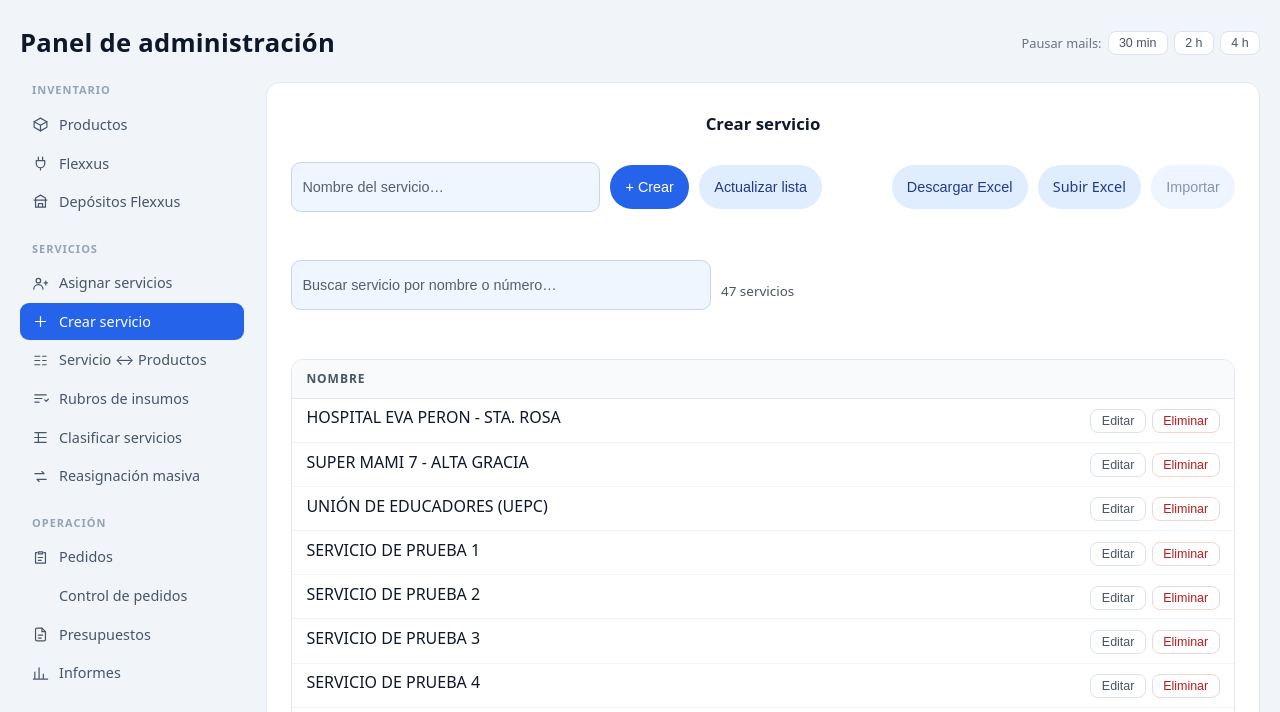
Crear servicio — buscar y paginar › busca por nombre sin importar acentos ni mayúsculas
The image size is (1280, 712).
expect the heading "Crear servicio" is shown: met, box [706,111,820,137]
Type "union" into the search field labelled "Buscar servicio" at coordinates (501, 285), box [291,260,711,310]
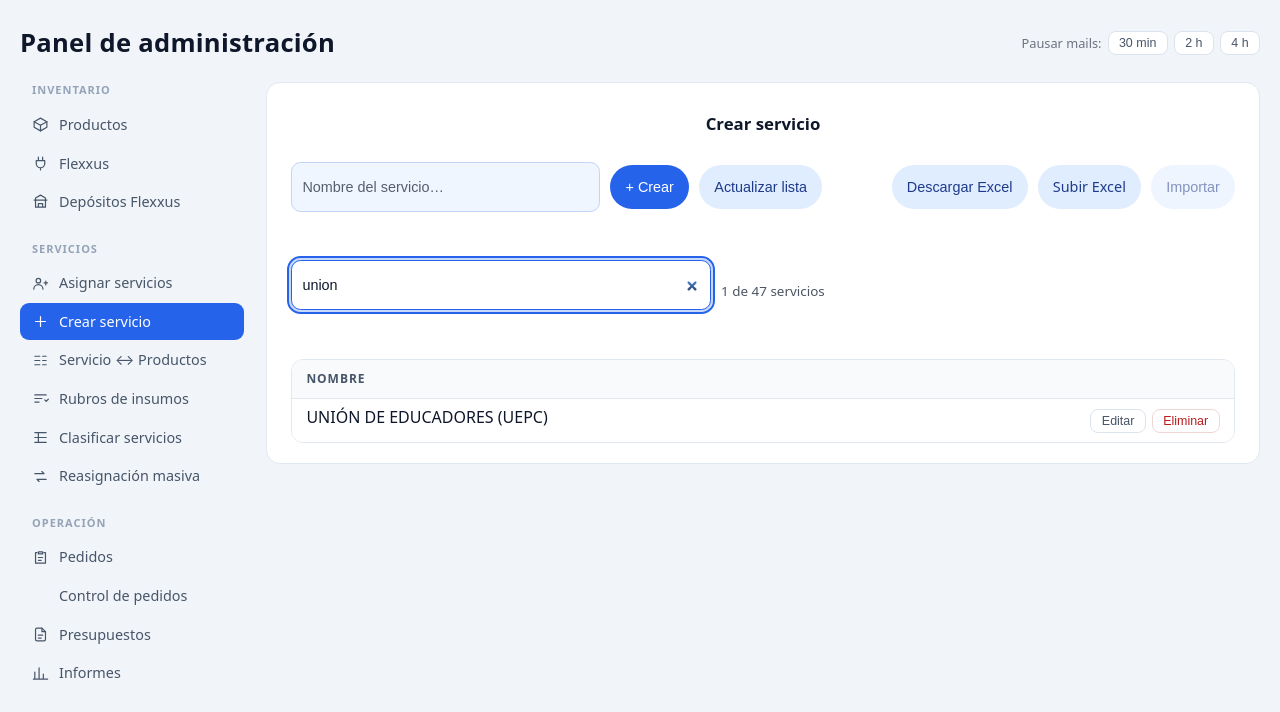
expect the text "UNIÓN DE EDUCADORES (UEPC)" is shown once: met, box [306,406,548,428]
expect the text "1 de 47 servicios" is shown: met, box [721,281,825,301]
